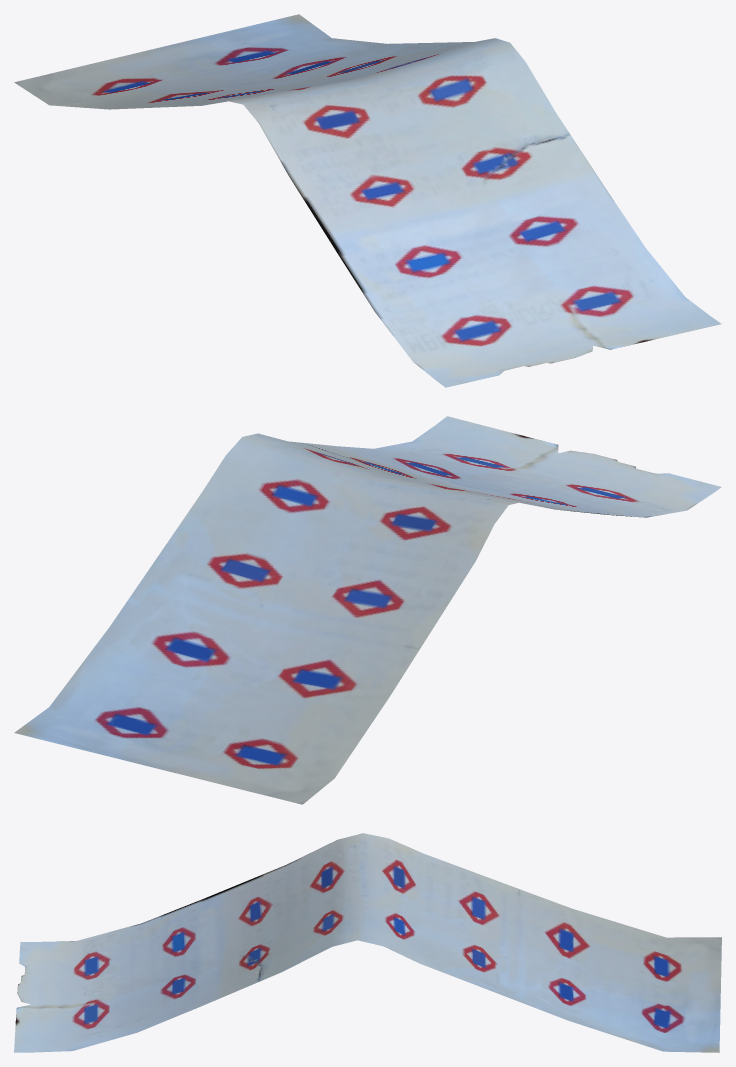
File: SM_Trash_Ticket_01i.fbx
3 views of the same model, one above another, from view 1: azimuth 30°, elevation 25°; view 2: azimuth 150°, elevation 25°; view 3: azimuth 270°, elevation 25° (orthographic). The views are drawn at different scales.
Parts seen in each view (by area): view 1: SM_Trash_Ticket_01i; view 2: SM_Trash_Ticket_01i; view 3: SM_Trash_Ticket_01i.
Boxes of the visible parts, x1,y1,x2,y2 form: SM_Trash_Ticket_01i: [14, 14, 721, 387]; SM_Trash_Ticket_01i: [14, 416, 721, 804]; SM_Trash_Ticket_01i: [14, 833, 721, 1052].
Bounding box in the file's own units: 6.5 × 16.84 × 2.89.
1 material, 1 textured.
